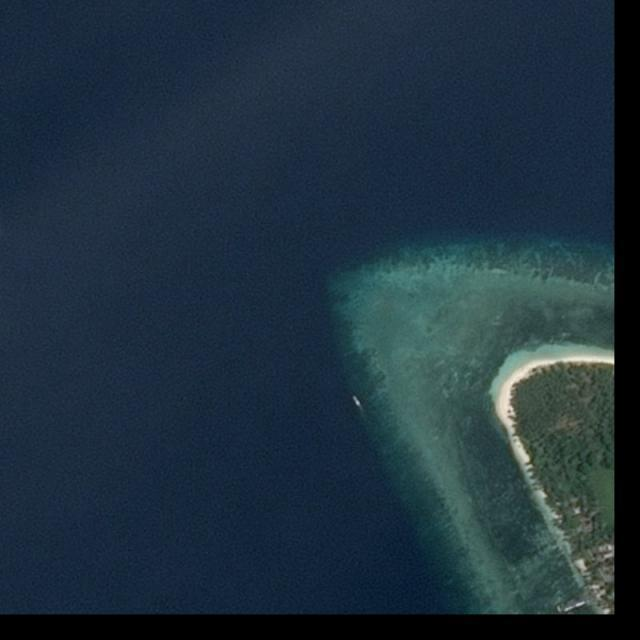ship: (351, 394, 362, 407)
